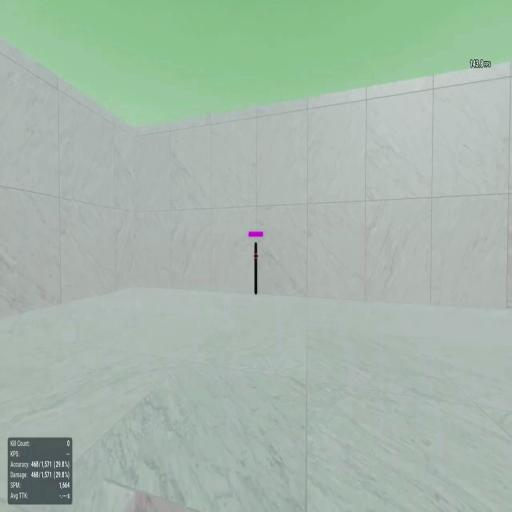Crosshair: (253, 252, 259, 260)
Target: (254, 242, 258, 294)
